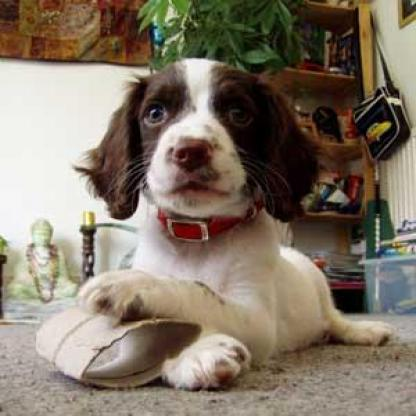English_springer: (75, 58, 388, 386)
